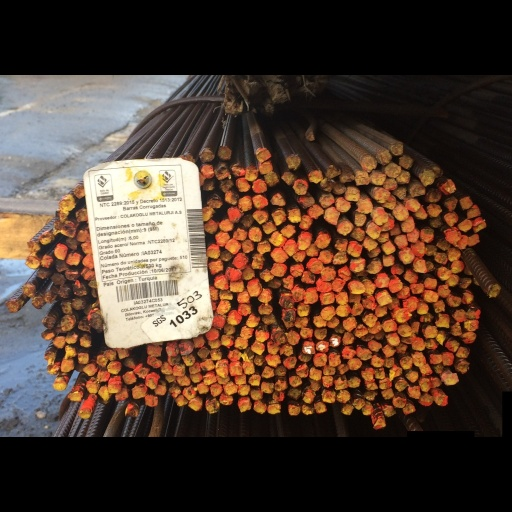dipstick: (69, 289, 90, 315), (87, 333, 105, 363), (303, 257, 324, 282), (334, 202, 355, 227), (212, 397, 230, 426), (282, 229, 300, 257), (372, 302, 393, 326), (405, 149, 426, 173), (440, 415, 460, 440), (128, 432, 147, 458), (438, 144, 457, 170), (313, 217, 330, 246), (296, 219, 312, 249), (323, 185, 340, 213), (271, 185, 287, 214), (294, 166, 314, 189), (285, 183, 302, 210), (347, 233, 364, 260), (418, 132, 435, 159), (57, 167, 76, 191), (231, 248, 248, 274), (198, 123, 215, 149), (292, 146, 309, 172), (360, 112, 377, 138), (371, 186, 388, 212), (355, 171, 372, 197), (224, 270, 244, 292), (262, 135, 282, 157), (348, 258, 367, 281), (434, 269, 453, 292), (246, 287, 262, 314), (213, 219, 231, 243), (227, 185, 245, 209), (268, 219, 286, 243), (408, 234, 426, 258), (397, 241, 414, 266), (360, 226, 380, 247), (4, 314, 23, 336), (270, 243, 289, 265), (255, 101, 274, 123), (214, 123, 230, 149), (237, 169, 253, 195), (303, 298, 319, 324), (356, 379, 372, 405), (216, 99, 234, 122), (409, 388, 427, 411), (460, 304, 478, 327), (59, 338, 76, 362), (84, 427, 101, 451), (225, 229, 242, 253), (229, 120, 246, 144), (269, 164, 286, 188), (285, 111, 302, 135), (347, 287, 364, 311), (392, 181, 409, 205), (443, 213, 460, 237), (205, 453, 221, 478), (242, 125, 258, 150), (325, 386, 341, 411), (250, 147, 269, 168), (392, 328, 411, 349), (264, 374, 282, 396), (317, 166, 335, 188), (316, 245, 334, 267), (388, 283, 402, 311), (59, 207, 76, 230), (21, 292, 38, 315), (281, 394, 298, 417), (213, 282, 230, 305), (278, 305, 295, 328), (245, 213, 262, 236), (296, 196, 313, 219), (334, 171, 351, 194), (315, 284, 332, 307), (396, 348, 413, 371), (341, 340, 358, 363), (72, 150, 87, 176), (236, 452, 251, 478), (250, 250, 265, 276), (365, 205, 380, 231), (64, 246, 80, 270), (30, 306, 46, 330), (266, 458, 282, 482), (226, 330, 242, 354), (203, 236, 219, 260), (344, 156, 360, 180), (332, 227, 348, 251), (366, 258, 382, 282), (418, 214, 434, 238), (63, 273, 82, 293), (143, 380, 163, 399), (264, 393, 282, 414), (279, 135, 297, 156), (330, 247, 348, 268), (107, 425, 122, 450), (361, 284, 376, 309), (177, 374, 194, 396), (201, 202, 218, 224), (307, 132, 324, 154), (383, 362, 400, 384), (381, 168, 398, 190), (391, 156, 408, 178), (432, 448, 449, 470), (445, 241, 462, 263), (81, 404, 97, 427), (199, 184, 215, 207), (252, 167, 268, 190), (321, 441, 337, 464), (423, 283, 439, 306), (403, 273, 419, 296), (434, 336, 450, 359), (256, 120, 275, 139), (252, 456, 267, 480), (258, 272, 276, 292), (260, 205, 278, 225), (306, 183, 324, 203), (337, 268, 352, 292), (387, 408, 402, 432), (413, 258, 428, 282), (351, 212, 366, 236), (74, 215, 91, 236), (215, 318, 232, 339), (270, 265, 287, 286), (280, 328, 297, 349), (198, 101, 215, 122), (401, 313, 418, 334), (388, 263, 405, 284), (394, 225, 411, 246), (372, 159, 389, 180), (436, 294, 453, 315), (443, 192, 460, 213), (38, 218, 54, 240), (152, 434, 168, 456), (227, 403, 243, 425), (250, 374, 266, 396), (235, 144, 251, 166), (354, 134, 370, 156), (332, 424, 348, 446), (415, 427, 431, 449), (381, 342, 397, 364), (361, 311, 377, 333), (444, 371, 460, 393), (456, 382, 472, 404), (426, 178, 442, 200), (76, 340, 90, 365), (96, 412, 110, 437), (292, 292, 304, 321), (59, 317, 74, 340), (188, 454, 203, 477), (288, 265, 303, 288), (330, 284, 345, 307), (407, 437, 422, 460), (404, 415, 419, 438), (374, 279, 389, 302), (400, 200, 415, 223), (66, 443, 84, 462), (144, 396, 162, 415), (197, 400, 215, 419), (317, 304, 335, 323), (417, 449, 435, 468), (380, 234, 399, 252), (459, 362, 478, 380), (324, 126, 341, 146), (319, 146, 336, 166), (384, 123, 401, 143), (346, 398, 363, 418), (421, 352, 438, 372), (451, 330, 468, 350), (303, 437, 316, 463), (53, 236, 67, 260), (25, 230, 41, 251), (40, 338, 56, 359), (75, 389, 91, 410), (102, 384, 118, 405), (165, 377, 181, 398), (219, 145, 235, 166), (223, 163, 239, 184), (320, 270, 336, 291), (380, 379, 396, 400), (362, 335, 378, 356), (441, 388, 455, 412), (457, 202, 473, 223), (414, 184, 430, 205), (426, 159, 442, 180), (106, 402, 121, 424), (259, 429, 274, 451), (287, 462, 302, 484), (232, 212, 247, 234), (240, 195, 255, 217), (320, 325, 335, 347), (367, 371, 382, 393), (349, 321, 364, 343), (446, 307, 461, 329), (472, 200, 487, 222), (253, 191, 270, 210), (335, 323, 352, 342), (351, 352, 368, 371), (462, 345, 479, 364), (98, 438, 112, 461), (377, 105, 391, 128), (308, 411, 322, 434), (378, 424, 392, 447), (457, 401, 471, 424), (78, 367, 94, 387), (125, 463, 141, 483), (144, 450, 160, 470), (134, 407, 150, 427), (224, 433, 240, 453), (219, 366, 235, 386), (254, 357, 270, 377), (207, 260, 223, 280), (295, 321, 311, 341), (239, 231, 255, 251), (206, 169, 222, 189), (279, 209, 295, 229), (369, 135, 385, 155), (312, 336, 328, 356), (366, 346, 382, 366), (449, 260, 465, 280), (210, 382, 225, 403), (392, 451, 407, 472), (341, 381, 356, 402), (393, 426, 408, 447), (396, 296, 411, 317), (287, 358, 300, 382), (75, 185, 89, 207), (145, 421, 159, 443), (295, 405, 309, 427), (328, 364, 342, 386), (360, 461, 374, 483), (370, 393, 384, 415), (373, 412, 387, 434), (399, 395, 413, 417), (270, 361, 287, 379), (362, 428, 379, 446), (63, 228, 79, 247), (40, 304, 56, 323), (57, 297, 73, 316), (195, 384, 211, 403), (286, 440, 302, 459), (256, 232, 272, 251), (311, 393, 327, 412), (374, 323, 390, 342), (405, 217, 421, 236), (405, 173, 421, 192), (435, 229, 451, 248), (25, 253, 40, 273), (78, 466, 93, 486), (211, 335, 226, 355), (233, 367, 248, 387), (258, 301, 273, 321), (218, 244, 233, 264), (218, 201, 233, 221), (322, 407, 337, 427), (360, 412, 375, 432), (380, 440, 395, 460), (396, 135, 411, 155), (458, 286, 473, 306), (433, 249, 448, 269), (388, 312, 401, 335), (353, 192, 366, 215), (62, 379, 76, 400), (60, 398, 74, 419), (53, 428, 67, 449), (220, 449, 234, 470), (239, 352, 253, 373), (299, 355, 313, 376), (389, 94, 403, 115), (337, 443, 351, 464), (382, 462, 396, 483), (411, 369, 425, 390), (431, 124, 445, 145), (257, 321, 274, 338), (465, 183, 482, 200), (52, 259, 68, 277), (72, 315, 88, 333), (45, 405, 61, 423), (226, 387, 242, 405), (236, 321, 252, 339), (338, 135, 354, 153), (333, 306, 349, 324), (302, 275, 315, 297), (423, 369, 436, 391), (454, 224, 467, 246), (51, 278, 66, 297), (122, 417, 137, 436), (167, 437, 182, 456), (176, 422, 191, 441), (209, 435, 224, 454), (443, 172, 458, 191), (175, 450, 189, 470), (203, 417, 217, 437), (206, 355, 220, 375), (236, 434, 250, 454), (248, 420, 262, 440), (246, 336, 260, 356), (399, 112, 413, 132), (306, 237, 320, 257), (395, 376, 409, 396), (433, 318, 447, 338), (466, 223, 480, 243), (459, 170, 473, 190), (352, 454, 365, 475), (229, 291, 245, 308), (261, 336, 277, 353), (182, 393, 197, 411), (339, 463, 354, 481), (466, 327, 481, 345), (445, 282, 460, 300), (114, 442, 128, 461), (160, 403, 174, 422), (193, 367, 207, 386), (253, 393, 267, 412), (241, 384, 255, 403), (280, 378, 294, 397), (313, 355, 327, 374), (315, 374, 329, 393), (422, 302, 436, 321), (429, 391, 443, 410), (83, 253, 95, 275), (302, 374, 314, 396), (40, 253, 53, 273), (65, 360, 78, 380), (242, 403, 255, 423), (342, 362, 355, 382), (449, 349, 462, 369), (40, 358, 56, 374), (325, 341, 341, 357), (361, 444, 377, 460), (429, 201, 445, 217), (117, 385, 132, 402), (272, 444, 287, 461), (288, 422, 303, 439), (418, 408, 433, 425), (282, 281, 293, 304), (96, 394, 108, 415), (172, 408, 186, 426), (80, 233, 92, 254), (250, 440, 264, 458), (260, 410, 274, 428), (301, 462, 315, 480), (399, 367, 417, 381), (423, 236, 435, 257), (435, 361, 449, 379), (53, 369, 66, 388), (182, 437, 195, 456), (202, 145, 215, 164), (292, 246, 305, 265), (374, 480, 387, 499), (321, 423, 334, 442), (216, 422, 232, 437), (308, 426, 320, 446), (42, 388, 56, 405), (167, 394, 181, 411), (190, 419, 204, 436), (195, 433, 209, 450), (274, 428, 288, 445), (295, 340, 309, 357), (402, 464, 416, 481), (122, 397, 135, 415), (274, 410, 287, 428), (236, 304, 249, 322), (298, 388, 311, 406), (381, 253, 394, 271), (430, 425, 442, 444), (36, 272, 51, 287), (383, 145, 397, 161), (188, 405, 201, 422), (209, 369, 222, 386), (223, 350, 236, 367), (333, 152, 346, 169), (387, 210, 400, 227), (314, 460, 326, 478), (433, 408, 445, 426), (267, 287, 282, 301), (419, 337, 433, 352), (337, 407, 350, 423), (411, 293, 424, 309), (377, 222, 390, 238), (333, 350, 345, 367), (415, 321, 427, 338), (219, 304, 233, 318), (347, 309, 361, 323), (165, 419, 176, 436), (384, 398, 395, 415), (234, 424, 247, 438), (271, 349, 284, 363), (360, 364, 374, 377), (368, 243, 382, 256), (409, 346, 419, 364), (424, 260, 434, 277), (371, 361, 382, 374)
